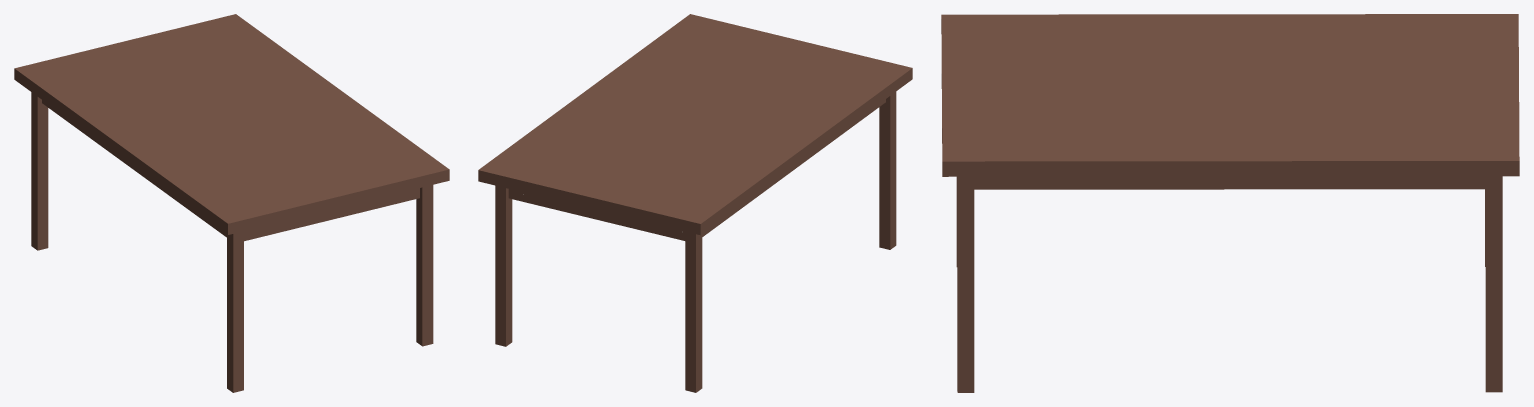
File: Table.glb
3 renders of one model, left to right at view 1: azimuth 30°, elevation 25°; view 2: azimuth 150°, elevation 25°; view 3: azimuth 270°, elevation 25°, orthographic. The views are drawn at different scales.
Parts seen in each view (by area): view 1: Table; view 2: Table; view 3: Table.
Boxes of the visible parts, <box> form: Table: <box>14,14,449,392</box>; Table: <box>478,14,912,392</box>; Table: <box>941,14,1519,392</box>.
Bounding box in the file's own units: 1.44 × 1.08 × 2.38.
